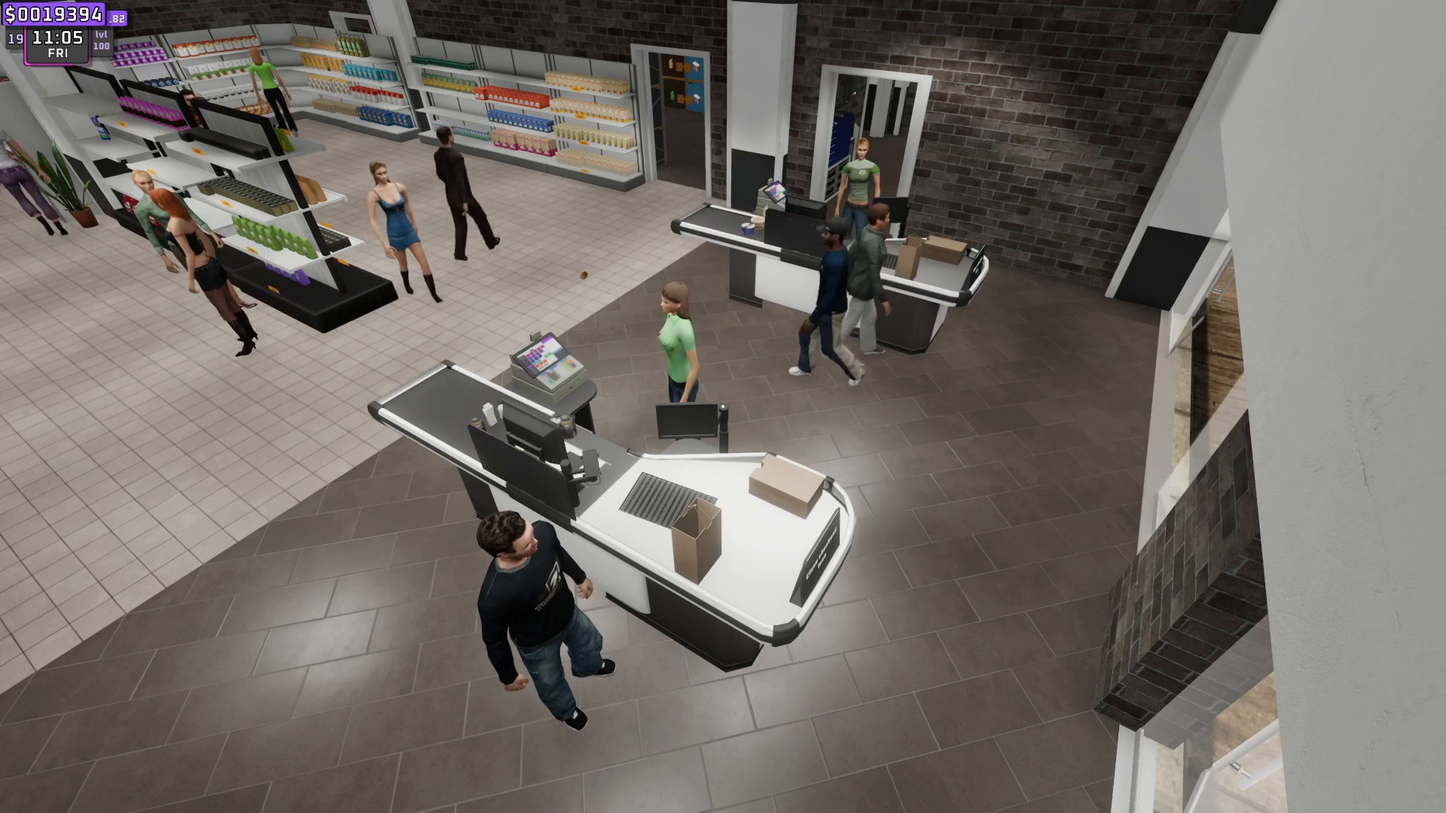Client: (482, 527, 619, 726), (802, 223, 870, 391), (852, 202, 917, 356)
Employee: (655, 280, 705, 399), (833, 131, 883, 223)
